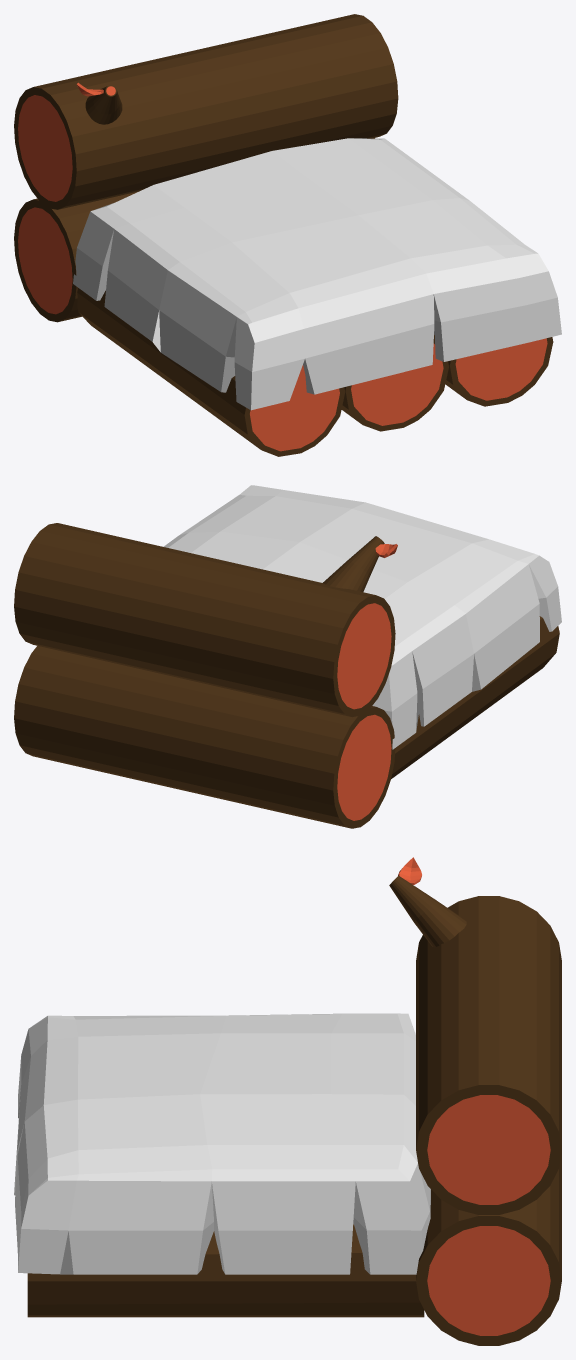
Rendered from Oak_Bed.fbx.
3 views of the same model, one above another, from view 1: azimuth 30°, elevation 25°; view 2: azimuth 150°, elevation 25°; view 3: azimuth 270°, elevation 25° (orthographic). The views are drawn at different scales.
Visible parts, largest first — view 1: Cylinder.005, Cylinder.006, Cylinder.002, Cylinder.001, Cylinder.003, Cylinder.004, Cylinder; view 2: Cylinder.006, Cylinder.001, Cylinder.005, Cylinder.002, Cylinder; view 3: Cylinder.005, Cylinder.006, Cylinder.004, Cylinder.001, Cylinder.
Boxes of the visible parts, x1,y1,x2,y2 form: Cylinder.005: (73, 138, 561, 410); Cylinder.006: (14, 14, 398, 209); Cylinder.002: (77, 288, 345, 456); Cylinder.001: (14, 138, 374, 322); Cylinder.003: (341, 335, 448, 431); Cylinder.004: (445, 337, 553, 406); Cylinder: (85, 85, 122, 124); Cylinder.006: (14, 523, 395, 717); Cylinder.001: (14, 646, 395, 828); Cylinder.005: (163, 485, 561, 749); Cylinder.002: (391, 616, 559, 778); Cylinder: (323, 536, 384, 591); Cylinder.005: (14, 1013, 430, 1274); Cylinder.006: (416, 896, 561, 1214); Cylinder.004: (27, 1224, 424, 1317); Cylinder.001: (416, 1151, 561, 1345); Cylinder: (389, 875, 466, 947).
Size of the model in its own units: 219 by 170 by 275.
